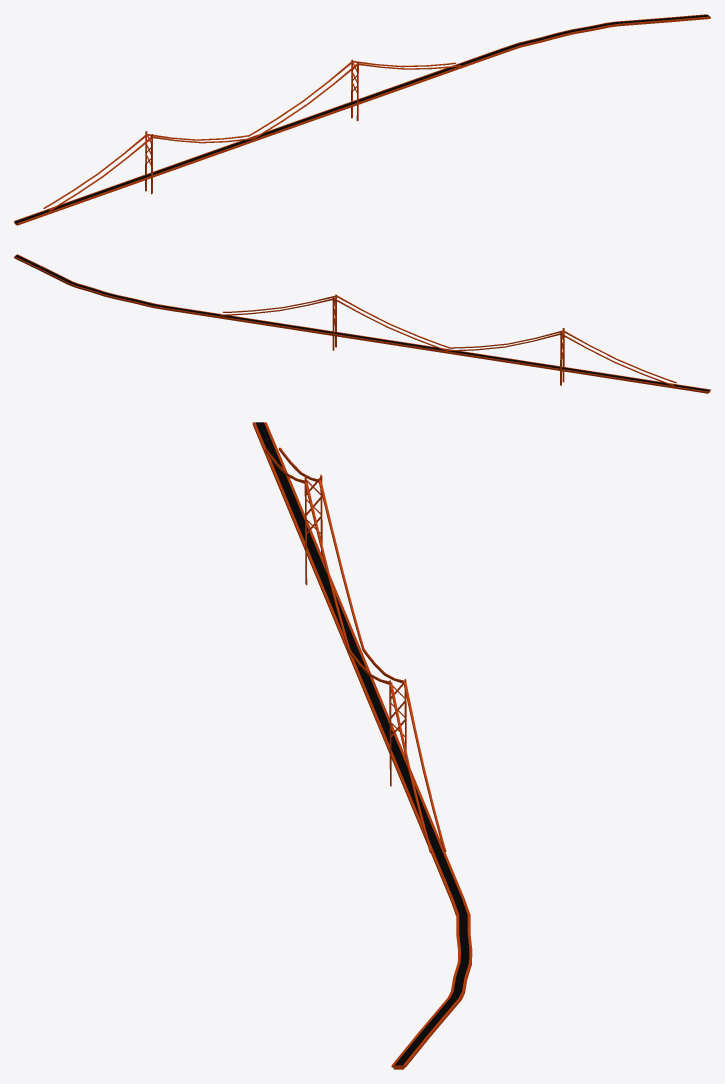
Rendered from Lisbonbridge.glb.
3 views of the same model, one above another, from view 1: azimuth 30°, elevation 25°; view 2: azimuth 150°, elevation 25°; view 3: azimuth 270°, elevation 25° (orthographic). The views are drawn at different scales.
Visible parts, largest first — view 1: Buffer Object 3, Buffer Object 4, Merged Objects, Merged Objects 1, Merged Objects 2; view 2: Buffer Object 3, Buffer Object 4, Merged Objects, Merged Objects 1, Merged Objects 2, Buffer Object 2, Buffer Object 1; view 3: Buffer Object 4, Buffer Object 3, Merged Objects, Merged Objects 2.
Boxes of the visible parts, <box> form: Buffer Object 3: <box>14,14,710,225</box>; Buffer Object 4: <box>15,15,709,223</box>; Merged Objects: <box>148,61,357,143</box>; Merged Objects 1: <box>43,134,152,211</box>; Merged Objects 2: <box>353,60,460,69</box>; Buffer Object 3: <box>14,254,710,393</box>; Buffer Object 4: <box>15,255,709,391</box>; Merged Objects: <box>334,295,562,351</box>; Merged Objects 1: <box>562,331,676,386</box>; Merged Objects 2: <box>220,295,335,315</box>; Buffer Object 2: <box>332,294,336,350</box>; Buffer Object 1: <box>560,328,564,385</box>; Buffer Object 4: <box>255,422,469,1065</box>; Buffer Object 3: <box>252,422,472,1069</box>; Merged Objects: <box>304,480,404,684</box>; Merged Objects 2: <box>389,681,446,853</box>.
Bounding box in the file's own units: 3202 × 250 × 462.
